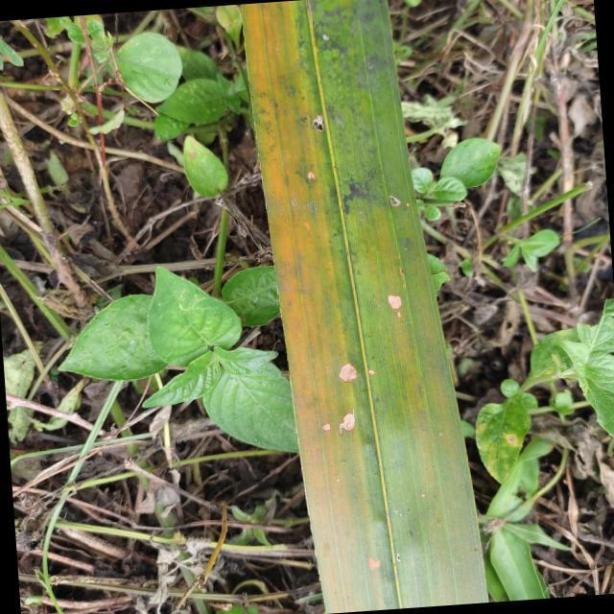Megnesium: (248, 0, 489, 614)
